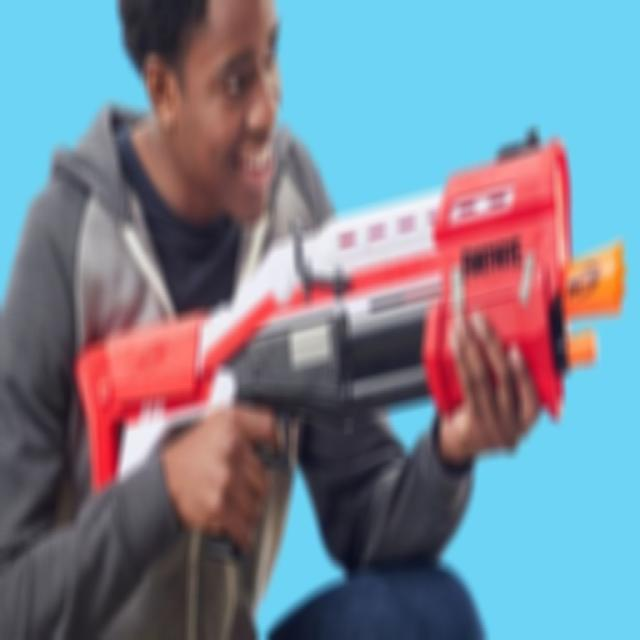Nerf gun: (69, 123, 628, 572)
